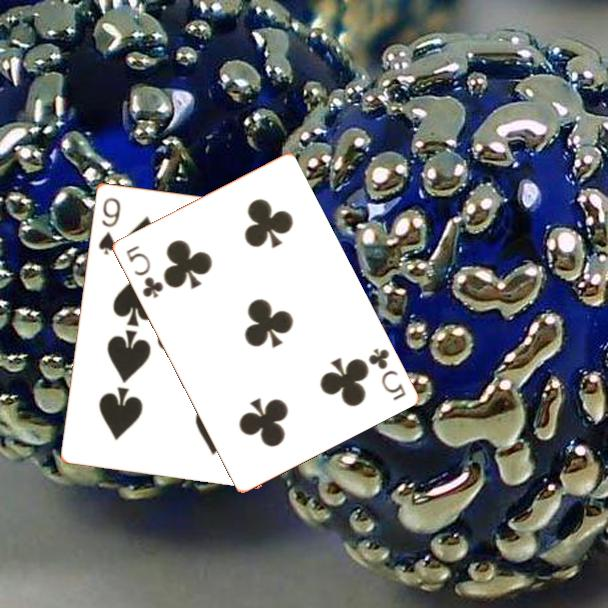c05: (122, 242, 166, 301), (364, 344, 408, 403)
s09: (95, 194, 123, 257)
